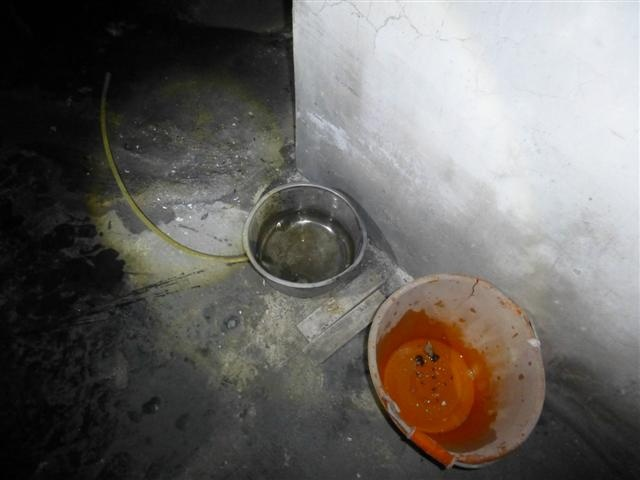bowl: (242, 181, 368, 296)
bucket: (365, 270, 550, 469)
